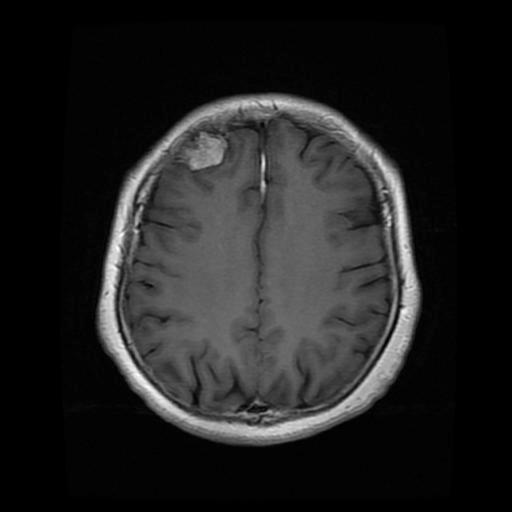Tumour-Meningioma: (162, 127, 256, 199)
